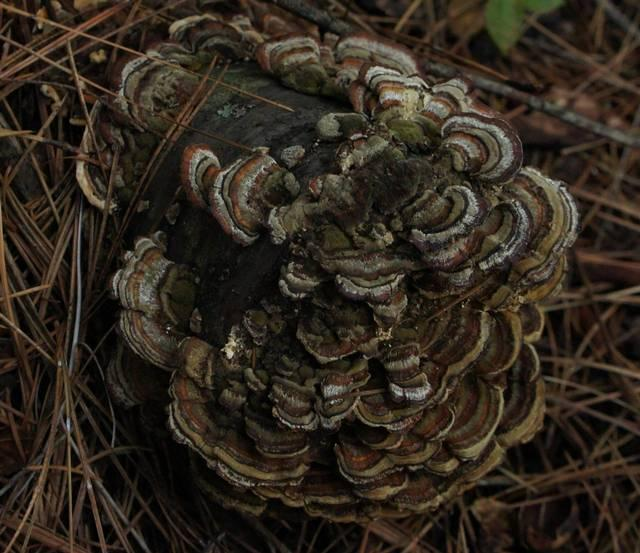Non-edible Mushroom: (74, 0, 581, 525), (178, 141, 299, 246)
